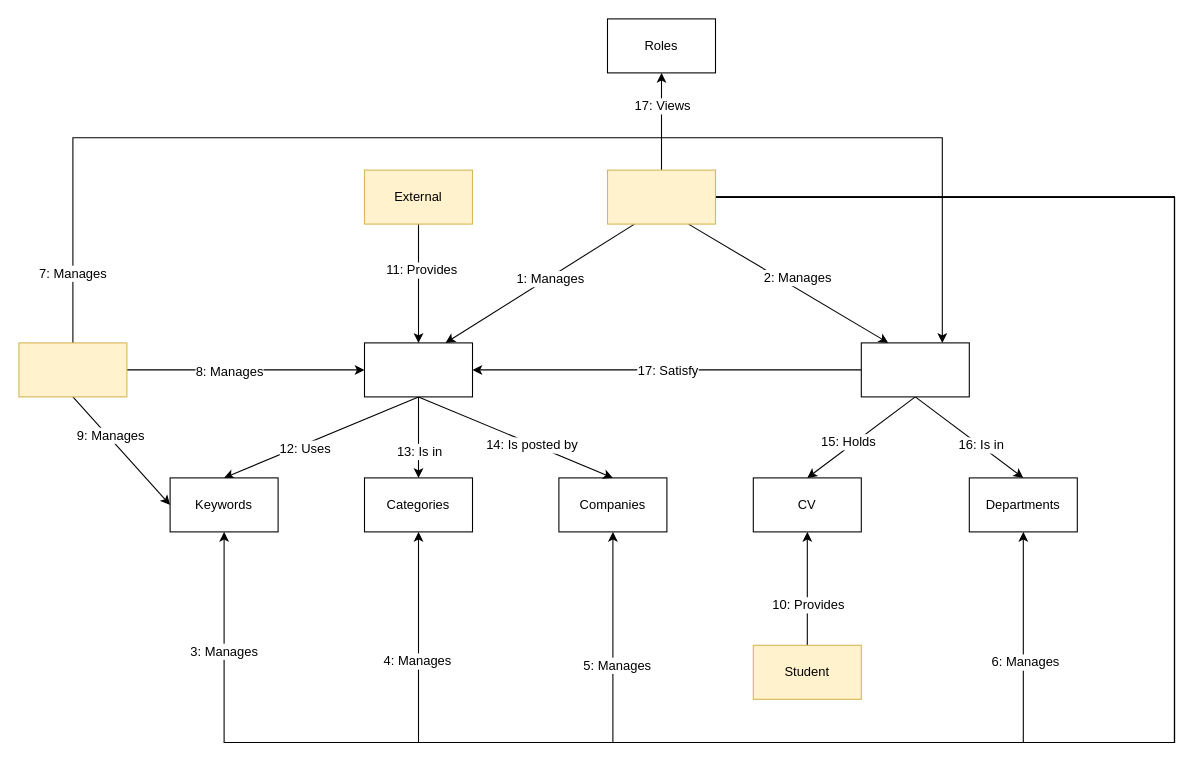
The diagram is 1202 pixels wide and 770 high, and some of its shapes have lost their labels. Here are the shapes that lost their labels. From the top down, the centre of each, then its label:
At (661,196): "Super Admin".
At (72,369): "Admin".
At (418,369): "Classifieds".
At (914,369): "Users".
